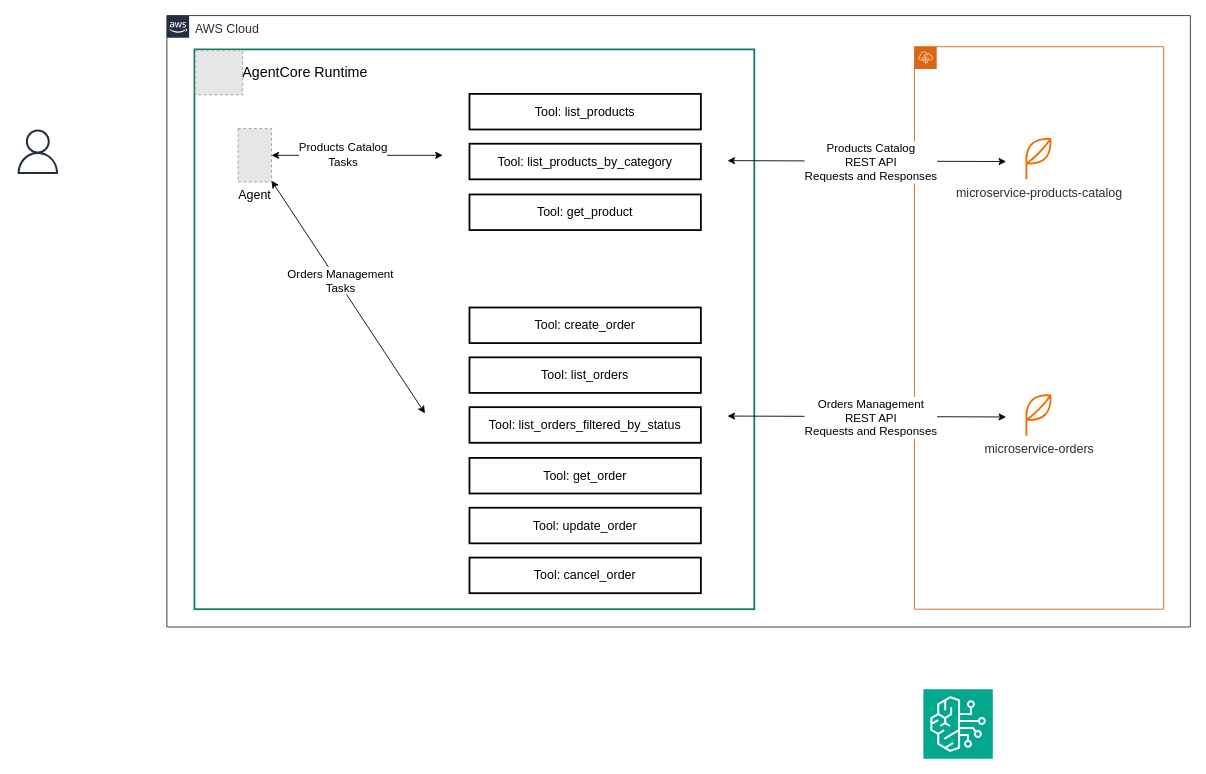
Image size: 1206x774. Some labels were removed from this diagram. Grey dashed boxes stand in for pictures. The box of each missing label's shape, as (x1, y1, x2, y2) in pixels:
Elastic Beanstalk: (914, 46, 1164, 609)
user: (15, 129, 60, 174)
